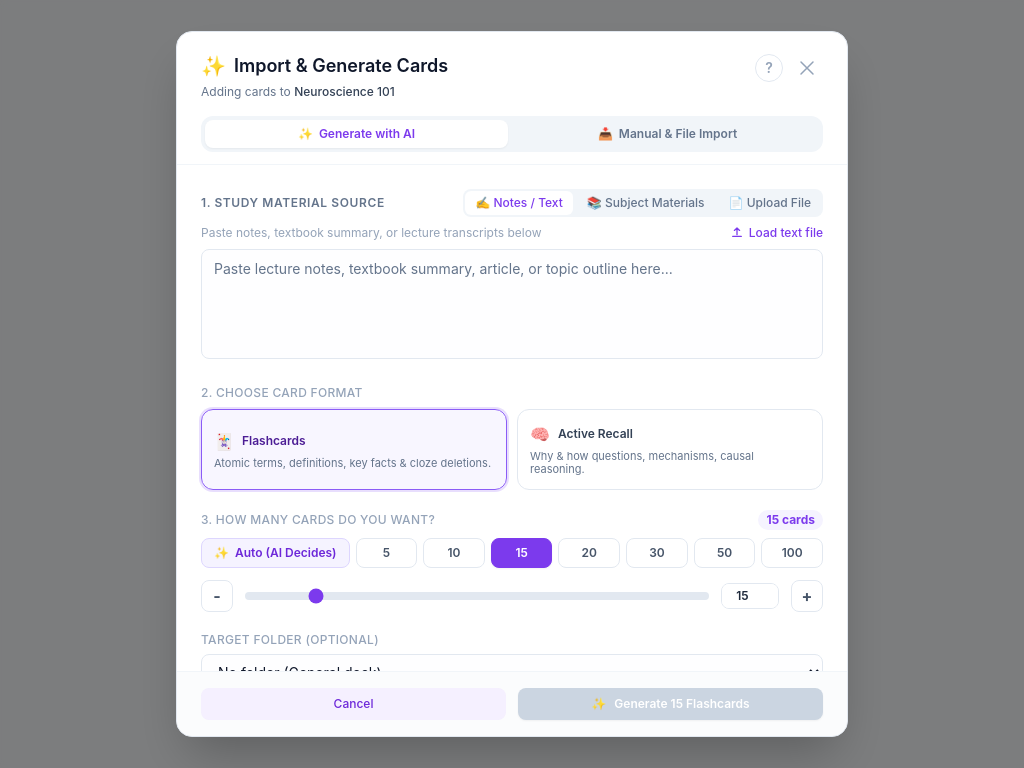
Scenario: CardImportModal › shows an error when Anki parsing fails
The width and height of the screenshot is (1024, 768).
Click the button "📥 Manual & File Import". click: (668, 134)
box: [516,120,819,148]
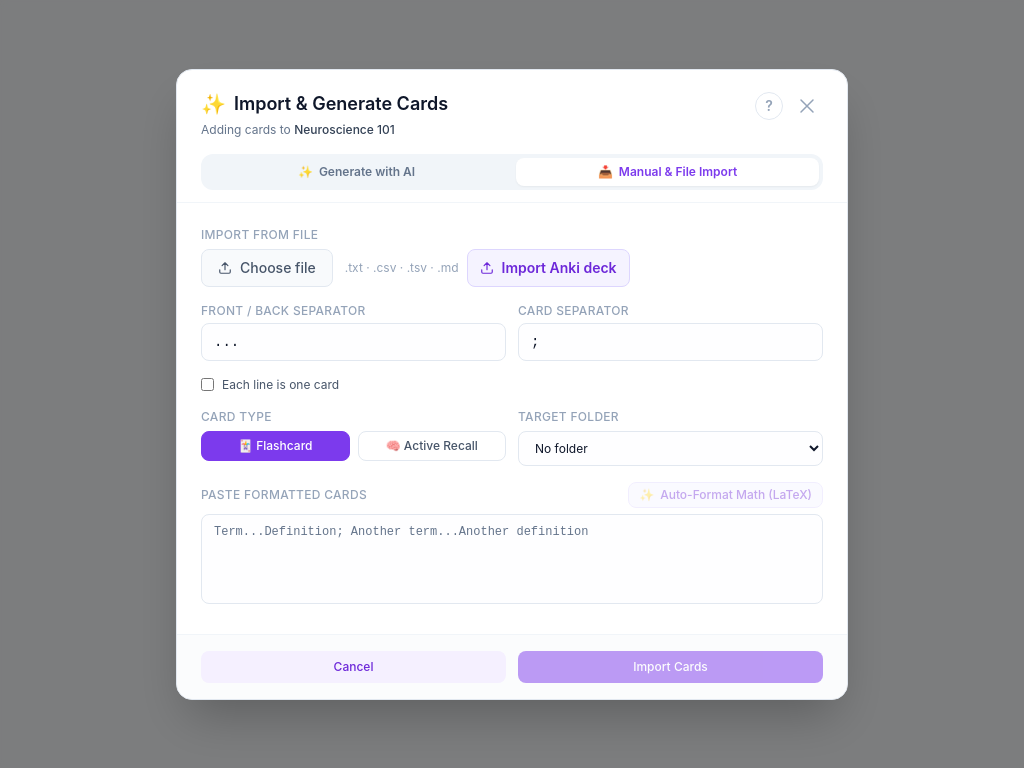
Click the button "Import Anki deck". click: (548, 268)
box: [466,248,630,286]
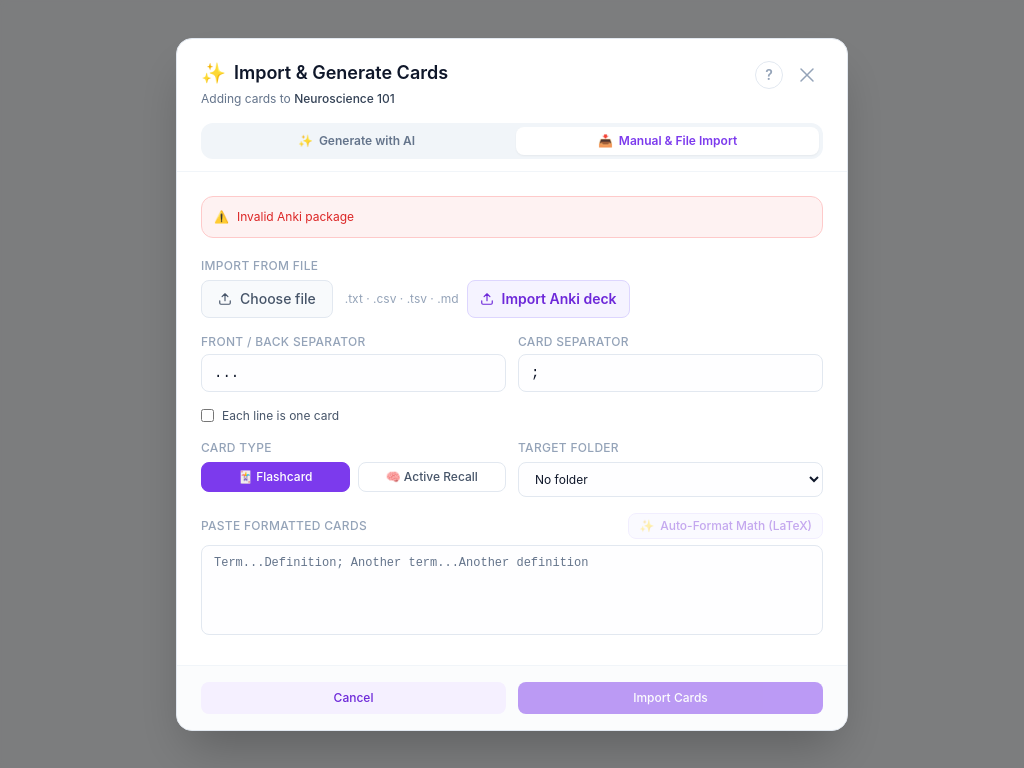
Result: the text "Invalid Anki package" is shown at [237,208,354,224]
